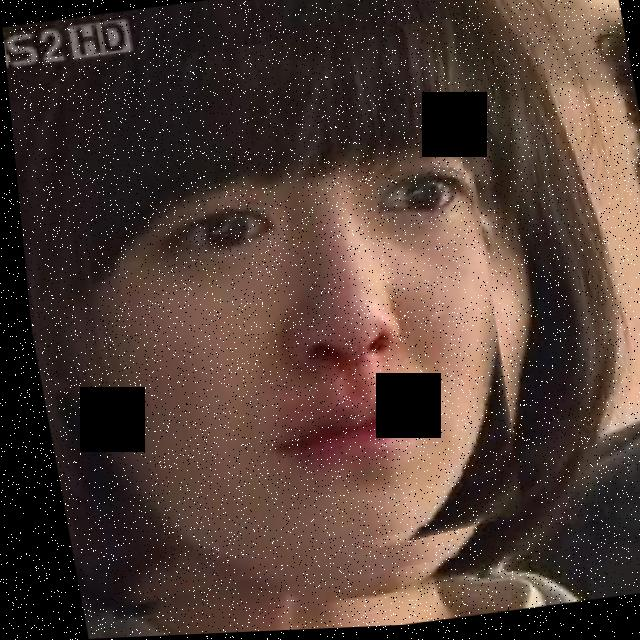sad: (3, 21, 543, 619)
